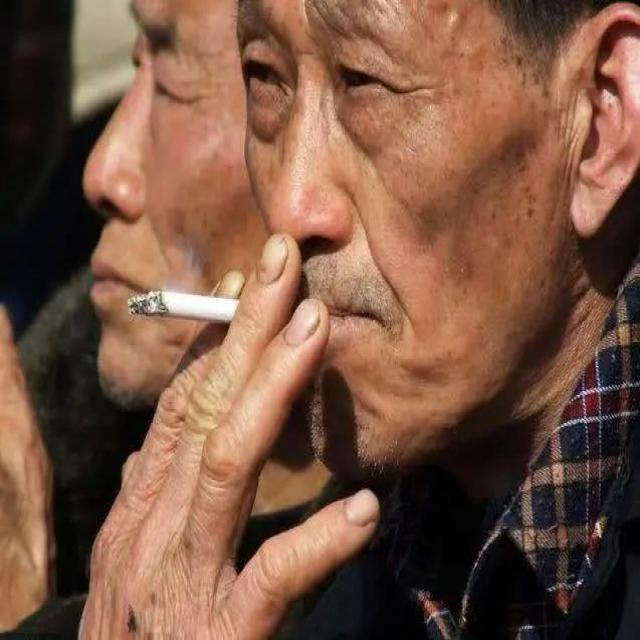smoke: (110, 231, 300, 373)
